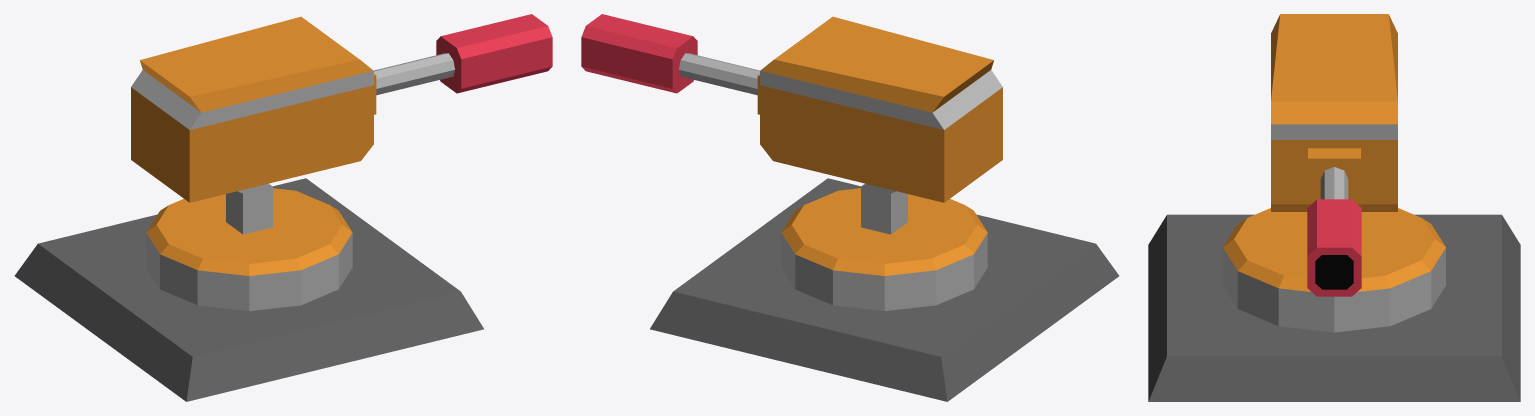
Rendered from turret.fbx.
3 views of the same model, side by side, from view 1: azimuth 30°, elevation 25°; view 2: azimuth 150°, elevation 25°; view 3: azimuth 270°, elevation 25° (orthographic). The views are drawn at different scales.
Parts seen in each view (by area): view 1: Base, Head, Rotor, Nozzle, Neck; view 2: Base, Head, Rotor, Nozzle, Neck; view 3: Base, Head, Rotor, Nozzle.
Part boxes in pixels (left/top/right/bottom): Base: left=14, top=178, right=483, bottom=401; Head: left=131, top=16, right=454, bottom=202; Rotor: left=146, top=188, right=352, bottom=311; Nozzle: left=436, top=14, right=552, bottom=93; Neck: left=226, top=183, right=272, bottom=234; Base: left=650, top=178, right=1119, bottom=401; Head: left=679, top=16, right=1002, bottom=202; Rotor: left=781, top=188, right=987, bottom=311; Nozzle: left=581, top=14, right=697, bottom=93; Neck: left=861, top=183, right=907, bottom=234; Base: left=1148, top=214, right=1520, bottom=401; Head: left=1271, top=14, right=1397, bottom=211; Rotor: left=1223, top=208, right=1445, bottom=332; Nozzle: left=1307, top=199, right=1361, bottom=296.
Size of the model in its own units: 400 by 590 by 314.
